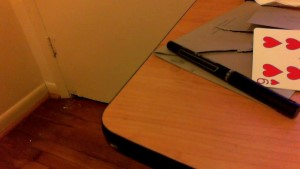NineOfHearts: (251, 18, 300, 93)
